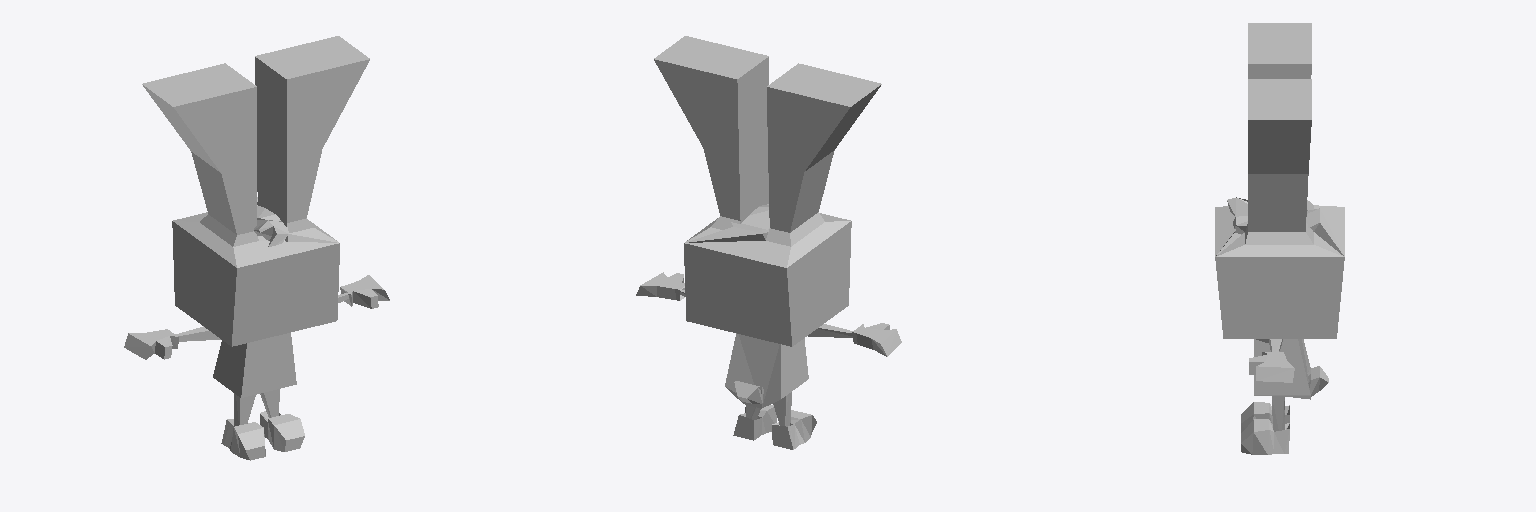
Rendered from Modelo.obj.
3 views of the same model, side by side, from view 1: azimuth 30°, elevation 25°; view 2: azimuth 150°, elevation 25°; view 3: azimuth 270°, elevation 25° (orthographic).
Parts seen in each view (by area): view 1: pCube1; view 2: pCube1; view 3: pCube1.
Boxes of the visible parts, <box> form: pCube1: <box>124,36,389,460</box>; pCube1: <box>636,36,901,449</box>; pCube1: <box>1215,23,1344,454</box>.
Size of the model in its own units: 3.27 by 4.59 by 1.46.